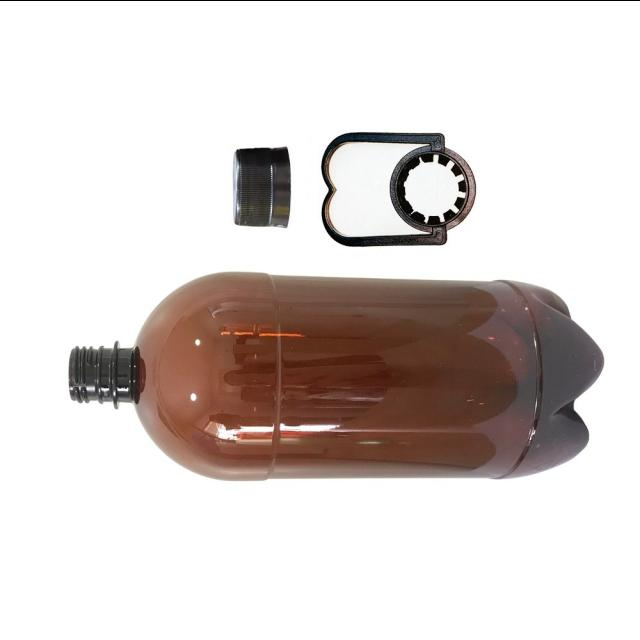bottle: (70, 271, 603, 477)
